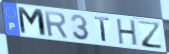3: (69, 13, 91, 42)
H: (116, 18, 139, 48)
M: (16, 6, 49, 39)
R: (42, 9, 70, 39)
T: (93, 15, 111, 43)
Z: (137, 20, 165, 51)
